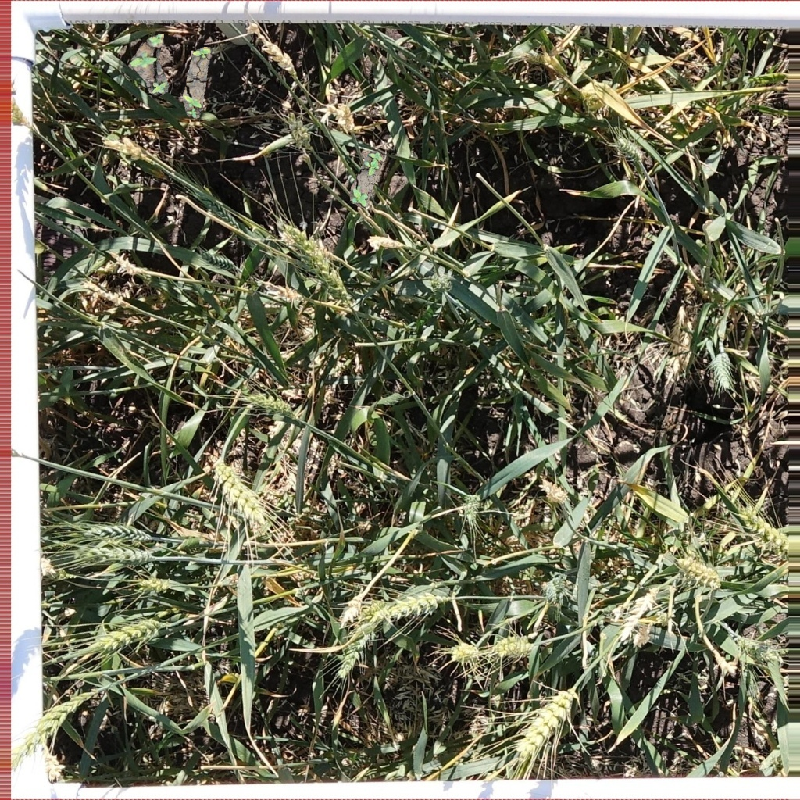spikelet: (507, 685, 580, 766), (1, 690, 97, 751), (208, 455, 270, 529), (367, 577, 459, 622), (247, 24, 301, 86), (276, 218, 333, 272), (91, 614, 164, 652), (735, 502, 789, 551), (614, 587, 659, 643), (77, 539, 157, 568), (79, 518, 154, 543), (675, 554, 723, 589), (735, 633, 782, 664), (246, 390, 294, 418), (490, 631, 536, 659), (707, 349, 735, 392), (539, 571, 574, 604), (611, 132, 646, 164), (455, 491, 485, 525), (449, 638, 482, 664), (424, 265, 453, 294), (286, 119, 313, 149)
weed: (346, 147, 387, 210), (129, 34, 169, 96), (183, 47, 211, 119)
